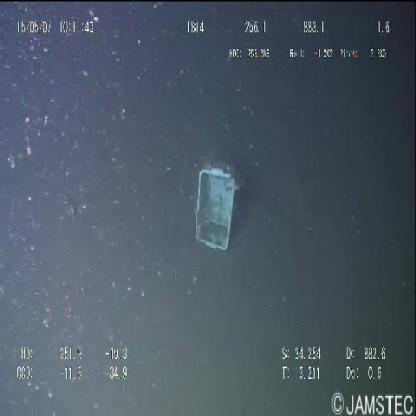Rác: (191, 157, 244, 254)
